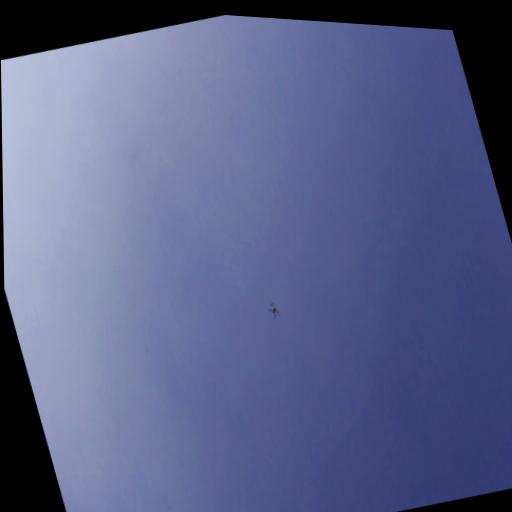drones: (265, 298, 283, 323)
